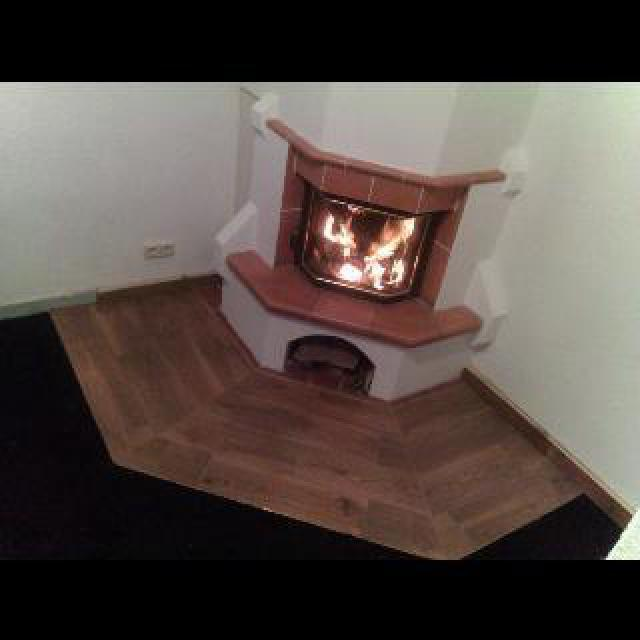Fire: (326, 202, 418, 284)
